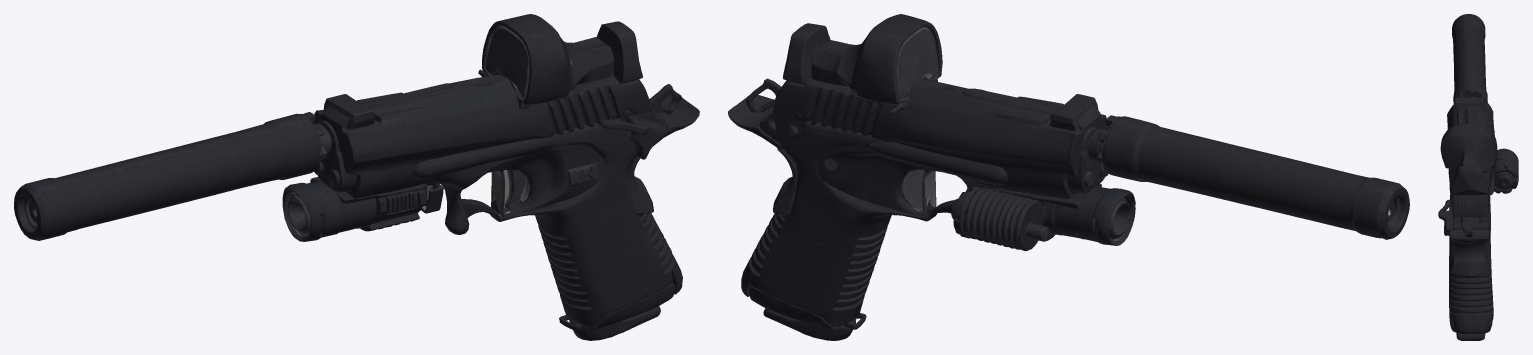
File: pistol.glb
The picture shows the model from 3 angles, left to right: view 1: azimuth 30°, elevation 25°; view 2: azimuth 150°, elevation 25°; view 3: azimuth 270°, elevation 25°; orthographic projection. The views are drawn at different scales.
Size of the model in its own units: 2 by 0.9472 by 0.3713.
Materials: 1 (1 with a texture image).
